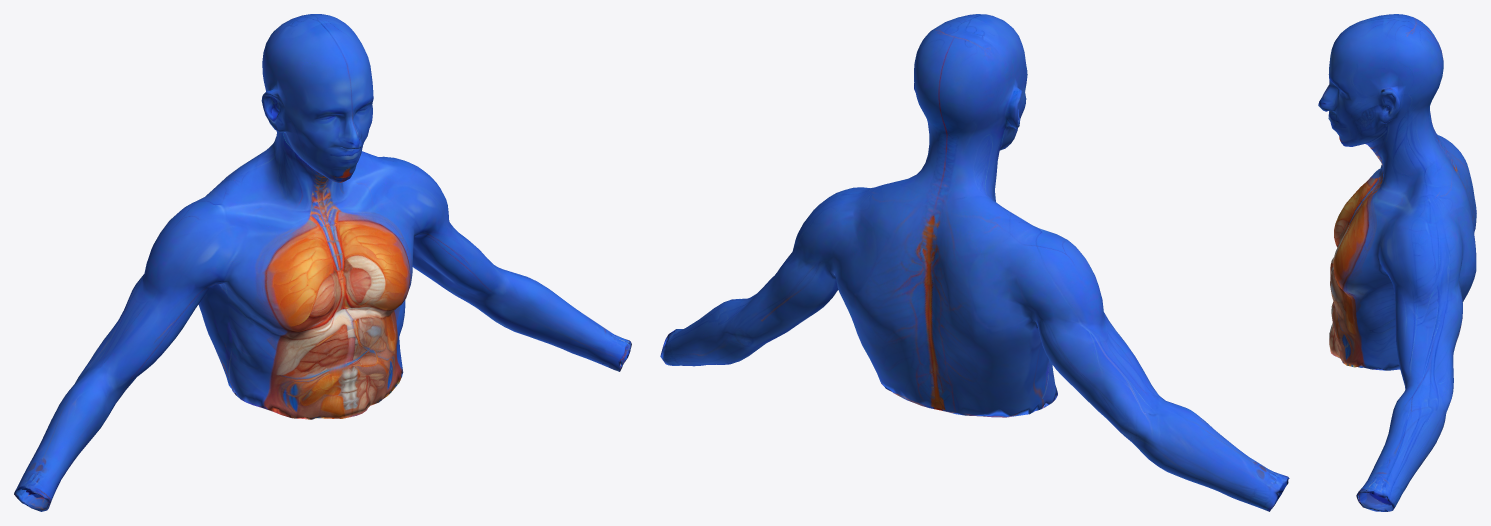
Rendered from human.glb.
3 renders of one model, left to right at view 1: azimuth 30°, elevation 25°; view 2: azimuth 150°, elevation 25°; view 3: azimuth 270°, elevation 25°, orthographic. The views are drawn at different scales.
Bounding box in the file's own units: 1.99 × 1.29 × 0.5063.
1 material, 1 textured.
